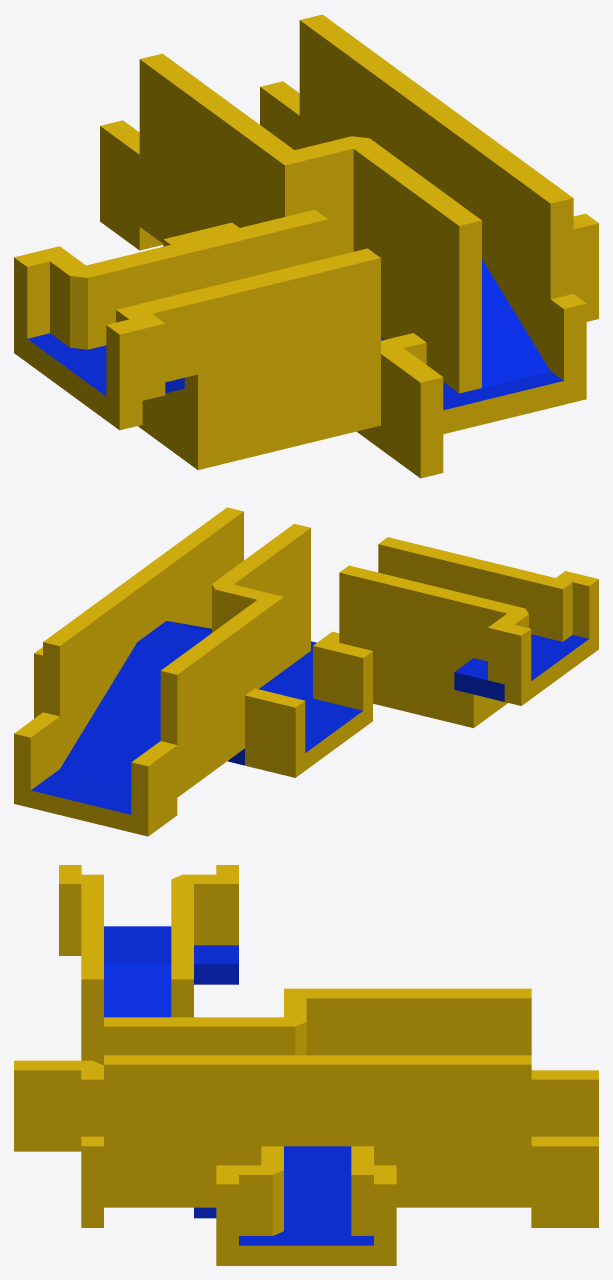
The model's file is Bridge.fbx.
The picture shows the model from 3 angles, top to bottom: view 1: azimuth 30°, elevation 25°; view 2: azimuth 150°, elevation 25°; view 3: azimuth 270°, elevation 25°; orthographic projection. The views are drawn at different scales.
Parts seen in each view (by area): view 1: pCube39, pCube65, pCube36, pCube64, pCube37, pCube60, pCube38, pCube46, pCube53, pCube47, pCube66, pCube30 (+12 smaller); view 2: pCube38, pCube36, pCube53, pCube63, pCube37, pCube35, pCube64, pCube65, pCube60, pCube39, pCube31, pCube30 (+13 smaller); view 3: pCube37, pCube64, pCube36, pCube53, pCube98, pCube65, pCube44, pCube33, pCube39, pCube32, pCube31, pCube46 (+14 smaller).
Boxes of the visible parts, <box> form: pCube39: <box>184,248,380,469</box>; pCube65: <box>353,143,481,393</box>; pCube36: <box>139,53,267,243</box>; pCube64: <box>445,121,573,370</box>; pCube37: <box>299,14,427,163</box>; pCube60: <box>14,252,142,430</box>; pCube38: <box>132,209,327,430</box>; pCube46: <box>391,294,586,433</box>; pCube53: <box>100,81,299,250</box>; pCube47: <box>356,367,443,478</box>; pCube66: <box>482,259,550,387</box>; pCube30: <box>271,111,467,250</box>; pCube38: <box>339,565,483,728</box>; pCube36: <box>160,614,254,797</box>; pCube53: <box>14,712,177,836</box>; pCube63: <box>245,639,372,777</box>; pCube37: <box>43,585,137,768</box>; pCube35: <box>60,642,183,781</box>; pCube64: <box>150,507,243,628</box>; pCube65: <box>217,523,310,689</box>; pCube60: <box>504,575,598,705</box>; pCube39: <box>378,537,521,604</box>; pCube31: <box>130,571,274,680</box>; pCube30: <box>140,564,283,673</box>; pCube37: <box>351,1055,531,1207</box>; pCube64: <box>104,1055,283,1207</box>; pCube36: <box>351,988,531,1055</box>; pCube53: <box>531,1070,598,1227</box>; pCube98: <box>216,1175,396,1265</box>; pCube65: <box>104,1017,283,1055</box>; pCube44: <box>194,1146,351,1218</box>; pCube33: <box>104,964,171,1017</box>; pCube39: <box>81,903,103,1065</box>; pCube32: <box>329,988,351,1146</box>; pCube31: <box>306,988,328,1146</box>; pCube46: <box>81,1070,103,1227</box>.
Bounding box in the file's own units: 25 × 8 × 26.
